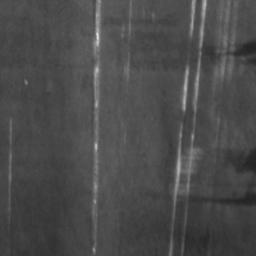Bright scratch: (92, 0, 101, 255), (169, 129, 184, 256), (193, 0, 207, 114), (182, 65, 191, 111), (189, 0, 197, 36)
